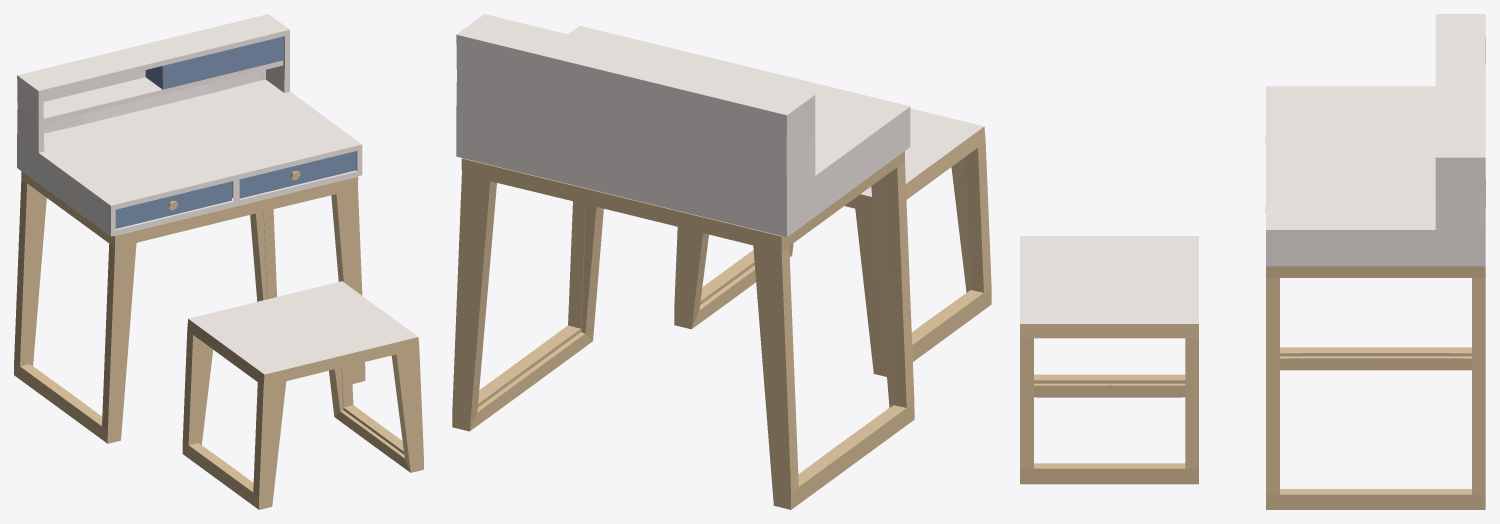
The model's file is Furn6_worktable_color1_joined.fbx.
The picture shows the model from 3 angles, left to right: view 1: azimuth 30°, elevation 25°; view 2: azimuth 150°, elevation 25°; view 3: azimuth 270°, elevation 25°; orthographic projection. The views are drawn at different scales.
Visible parts, largest first — view 1: стулик и табуреточка; view 2: стулик и табуреточка; view 3: стулик и табуреточка.
Part boxes in pixels (x1=…): стулик и табуреточка: x1=14, y1=14, x2=423, y2=509; стулик и табуреточка: x1=452, y1=14, x2=991, y2=509; стулик и табуреточка: x1=1020, y1=14, x2=1485, y2=509.
Bounding box in the file's own units: 211 × 234 × 282.
